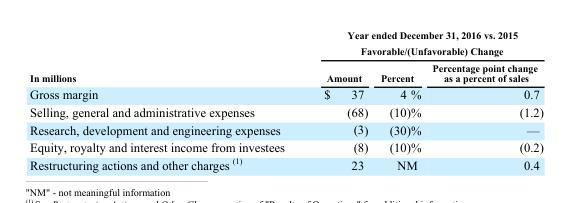table: (29, 28, 542, 171)
table column: (29, 28, 303, 171), (426, 28, 542, 171), (303, 28, 373, 171), (373, 28, 426, 171)
table column header: (29, 28, 542, 85)
table row: (29, 28, 542, 59), (29, 59, 542, 85), (29, 102, 542, 120), (29, 120, 542, 138), (29, 85, 542, 102), (29, 154, 542, 171), (29, 138, 542, 154)
table spanning cell: (29, 28, 303, 85), (303, 28, 542, 59)
